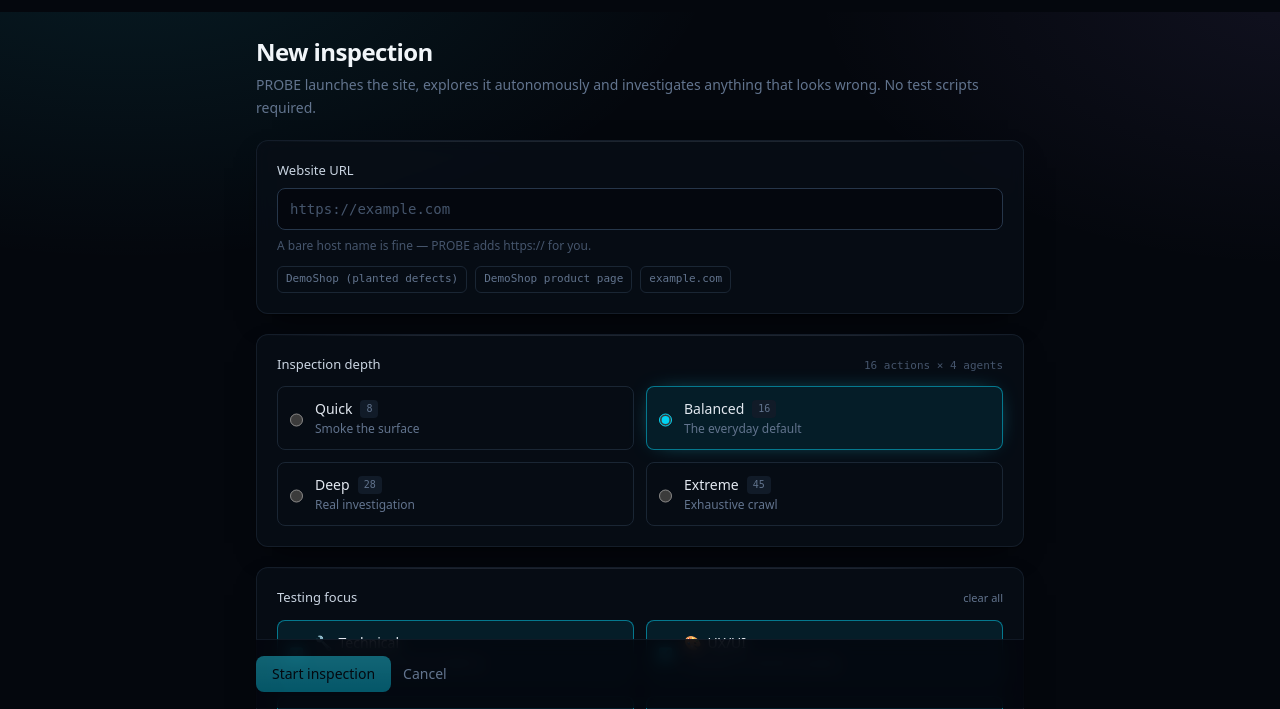
Test: NewInspection › requires explicit site authorization before starting
In the field labelled "Website URL": {"x": 640, "y": 209} [277,188,1003,230], type "example.com"
(page scrolled)
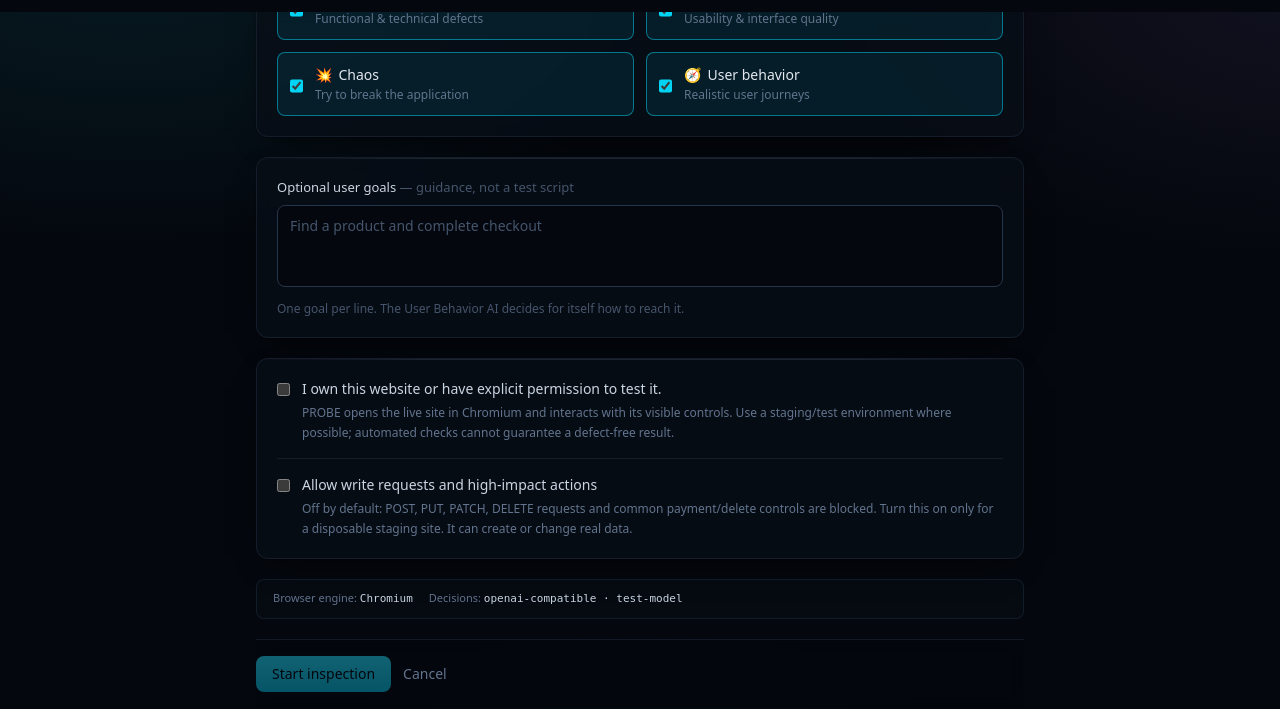
Check: the button "Start inspection" is disabled, box [256,656,391,692]
Click the checkbox labelled "I own this website or have explicit permission": {"x": 284, "y": 390} [277,383,290,396]
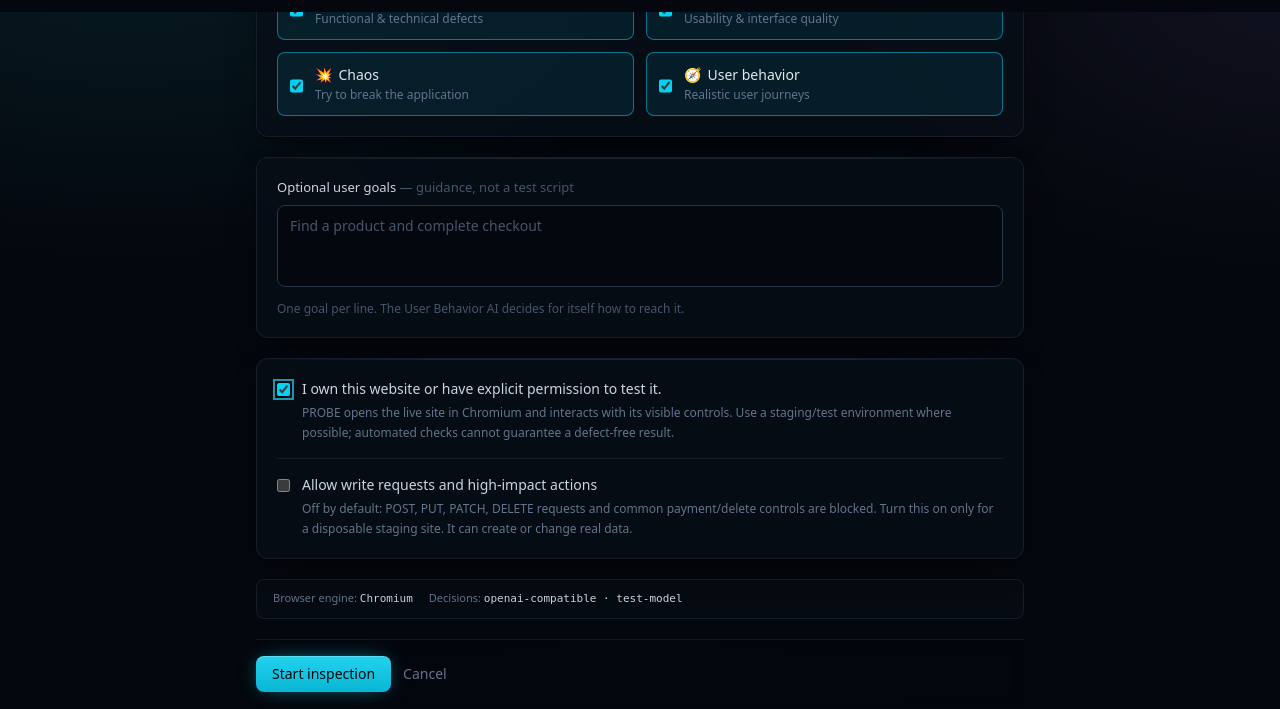
Check: the button "Start inspection" is enabled, box [256,656,391,692]
